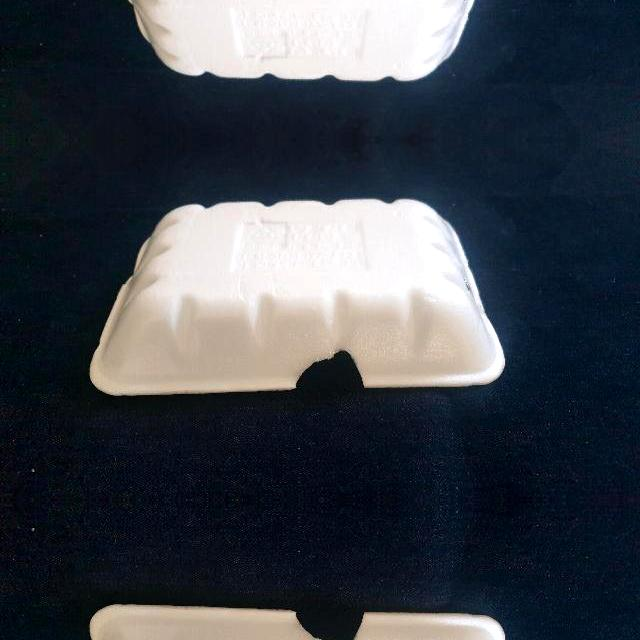Styrofoam: (88, 199, 506, 397), (89, 199, 505, 395), (87, 0, 506, 81), (127, 0, 475, 81), (89, 605, 322, 640)
